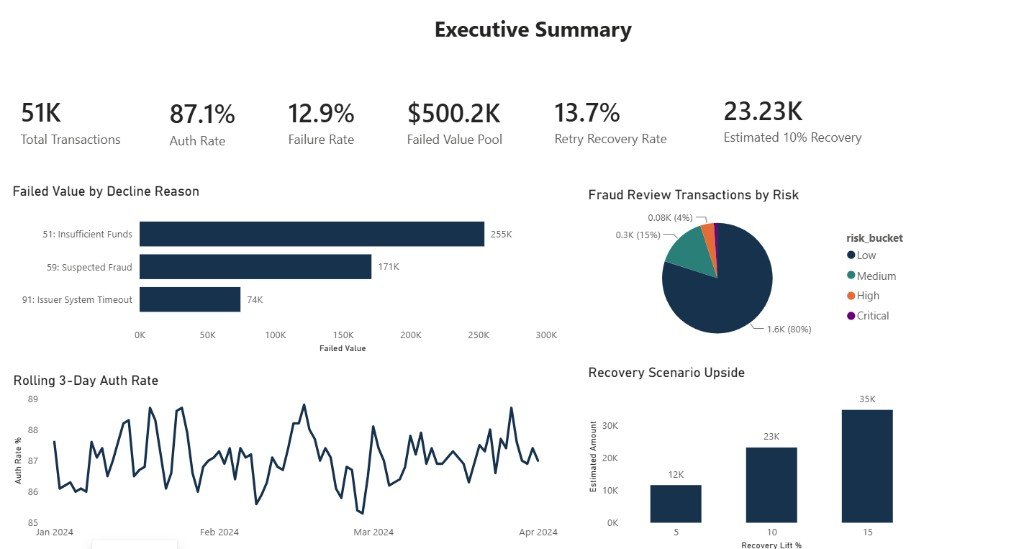

This screenshot's page, from the dashboard's own definition file:
{"tool":"powerbi","page":{"name":"Executive Summary","canvas":[1280,720],"ordinal":0},"visuals":[{"type":"cardVisual","fields":{"Data":["payments.Total Transactions"]},"box":[0,103,185.4,122.7],"z":0},{"type":"cardVisual","fields":{"Data":["payments.Auth Rate"]},"box":[185.4,104.8,147.8,122.7],"z":1000},{"type":"cardVisual","fields":{"Data":["payments.Failure Rate"]},"box":[333.1,104.8,147.8,119.1],"z":2000},{"type":"cardVisual","fields":{"Data":["payments.Failed Value Pool"]},"box":[480.9,104.8,183.6,119.1],"z":3000},{"type":"cardVisual","fields":{"Data":["recovery_scenarios.Retry Recovery Rate"]},"box":[664.5,104.8,210.4,118.2],"z":4000},{"type":"cardVisual","fields":{"Data":["recovery_scenarios.Estimated 10% Recovery"]},"box":[874.9,102.1,238.2,120.9],"z":5000},{"type":"lineChart","title":"Rolling 3-Day Auth Rate","fields":{"Category":["daily_auth_rate_trend.payment_date"],"Y":["Sum(daily_auth_rate_trend.rolling_3day_auth_rate_pct)"]},"box":[14.8,476.9,687.8,217.6],"z":6000},{"type":"columnChart","title":"Recovery Scenario Upside","fields":{"Category":["recovery_scenarios.scenario_recovery_lift_pct"],"Y":["recovery_scenarios.Scenario Recovery Amount"]},"box":[730.8,467.5,419.1,236.4],"z":7000},{"type":"barChart","title":"Failed Value by Decline Reason","fields":{"Category":["payments.payment_status"],"Y":["payments.Payment Value"]},"box":[14.3,241.8,687.8,216.7],"z":8000},{"type":"pieChart","title":"Fraud Review Transactions by Risk","fields":{"Category":["fraud_scored_transactions.risk_bucket"],"Y":["CountNonNull(fraud_scored_transactions.transaction_id)"]},"box":[730.8,245.8,419.1,209.6],"z":9000},{"type":"textbox","box":[205.1,26,923.3,55.5],"z":10000}]}

Visuals, with their boxes on the page's 1280x720 design canvas (x1, y1, x2, y2). These are canvas units, not pixel positions in the 1024x549 screenshot, which may show the page scaled, cropped or inside an application window:
cardVisual - payments.Total Transactions: <region>0, 103, 185, 226</region>
cardVisual - payments.Auth Rate: <region>185, 105, 333, 228</region>
cardVisual - payments.Failure Rate: <region>333, 105, 481, 224</region>
cardVisual - payments.Failed Value Pool: <region>481, 105, 664, 224</region>
cardVisual - recovery_scenarios.Retry Recovery Rate: <region>664, 105, 875, 223</region>
cardVisual - recovery_scenarios.Estimated 10% Recovery: <region>875, 102, 1113, 223</region>
"Rolling 3-Day Auth Rate" lineChart: <region>15, 477, 703, 694</region>
"Recovery Scenario Upside" columnChart: <region>731, 468, 1150, 704</region>
"Failed Value by Decline Reason" barChart: <region>14, 242, 702, 458</region>
"Fraud Review Transactions by Risk" pieChart: <region>731, 246, 1150, 455</region>
textbox: <region>205, 26, 1128, 82</region>
